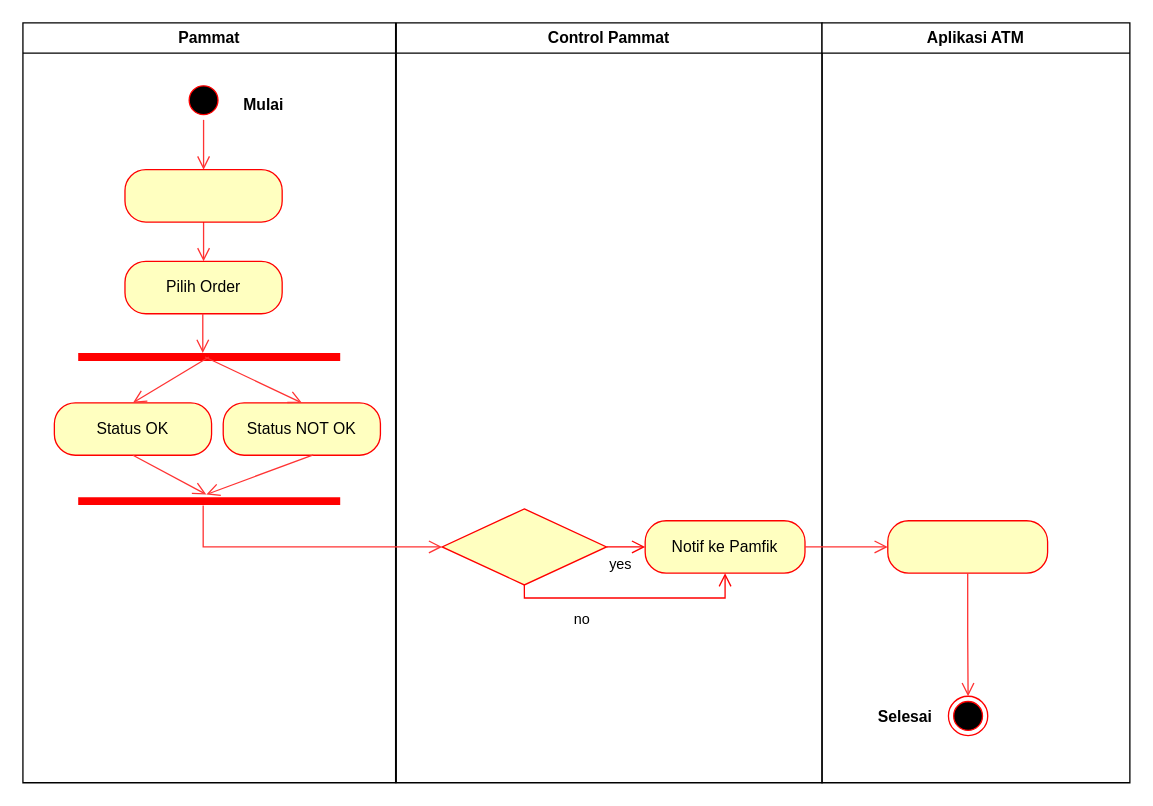
Image size: 1153x806. Some labels were removed from this diagram. The shapes that lost their labels are listed below. From the top down, each one's centre as x and y in pixels, then its label:
the point at 203,195: List Approval Register BMM
the point at 524,546: action
the point at 967,546: Menu List Approval Register BMM
